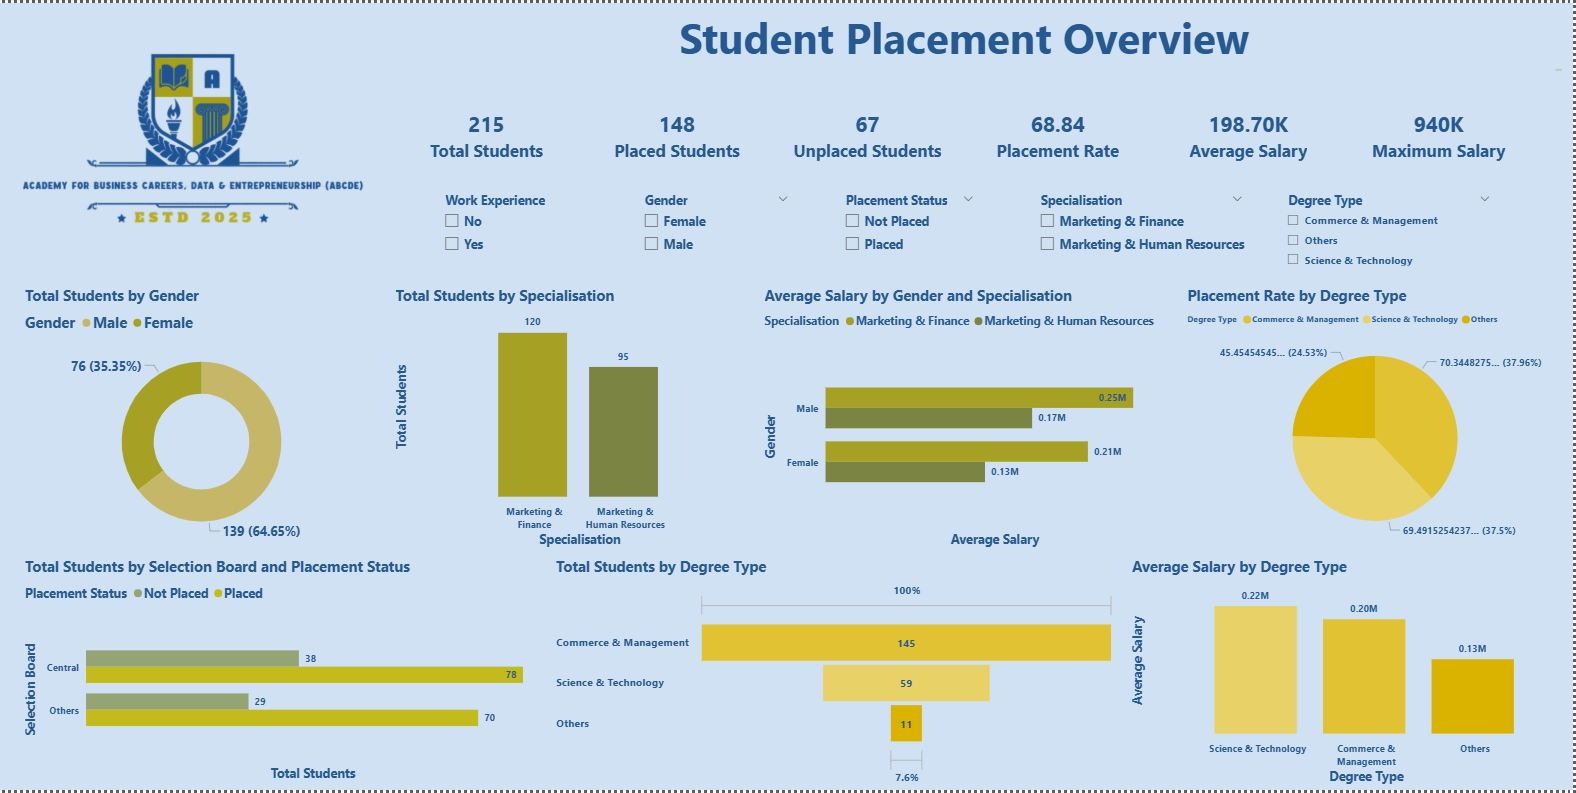

Layout of this report page (visuals, bound fields, positions):
{"tool":"powerbi","page":{"name":"Placement Overview","canvas":[2000,1000],"ordinal":0},"visuals":[{"type":"textbox","title":"Student Placement Overview","box":[462,8,1528,84],"z":0},{"type":"cardVisual","fields":{"Data":["Count(student_details.s_id)","student_details.placed_students","student_details.unplaced_students","student_details.placement_rate","Avg(student_details.salary)","Max(student_details.salary)1"]},"box":[484,108,1480,118],"z":1000},{"type":"slicer","fields":{"Values":["student_details.workex"]},"box":[552,234,202,108],"z":2000},{"type":"slicer","fields":{"Values":["student_details.status"]},"box":[1062,234,188,108],"z":3000},{"type":"slicer","fields":{"Values":["student_details.gender"]},"box":[806,234,208,108],"z":4000},{"type":"slicer","fields":{"Values":["student_details.specialisation"]},"box":[1310,234,282,108],"z":5000},{"type":"donutChart","fields":{"Y":["Count(student_details.s_id)"],"Category":["student_details.gender"]},"box":[26,358,458,338],"z":6000},{"type":"clusteredColumnChart","fields":{"Category":["student_details.degree_t"],"Y":["Avg(student_details.salary)"]},"box":[1434,704,556,294],"z":7000},{"type":"clusteredColumnChart","fields":{"Category":["student_details.specialisation"],"Y":["Count(student_details.s_id)"]},"box":[498,358,452,338],"z":8000},{"type":"image","box":[26,8,436,334],"z":9000},{"type":"funnel","fields":{"Y":["CountNonNull(student_details.s_id)"],"Category":["student_details.degree_t"]},"box":[702,704,720,296],"z":10000},{"type":"clusteredBarChart","fields":{"Category":["student_details.ssc_b"],"Series":["student_details.status"],"Y":["CountNonNull(student_details.s_id)"]},"box":[26,704,664,290],"z":11000},{"type":"pieChart","fields":{"Y":["student_details.placement_rate"],"Category":["student_details.degree_t"]},"box":[1504,358,486,338],"z":12000},{"type":"slicer","fields":{"Values":["student_details.degree_t"]},"box":[1624,234,282,108],"z":13000},{"type":"clusteredBarChart","fields":{"Y":["Avg(student_details.salary)"],"Category":["student_details.gender"],"Series":["student_details.specialisation"]},"box":[966,358,518,338],"z":14000}]}

Visuals, with their boxes in screenshot pixels (x1, y1, x2, y2), scaled from the page's 2000x1000 canvas onto the 1576x793 screenshot:
"Student Placement Overview" textbox: [left=364, top=6, right=1568, bottom=73]
cardVisual - Count(student_details.s_id) x student_details.placed_students: [left=381, top=86, right=1548, bottom=179]
slicer - student_details.workex: [left=435, top=186, right=594, bottom=271]
slicer - student_details.status: [left=837, top=186, right=985, bottom=271]
slicer - student_details.gender: [left=635, top=186, right=799, bottom=271]
slicer - student_details.specialisation: [left=1032, top=186, right=1254, bottom=271]
donutChart - Count(student_details.s_id) x student_details.gender: [left=20, top=284, right=381, bottom=552]
clusteredColumnChart - student_details.degree_t x Avg(student_details.salary): [left=1130, top=558, right=1568, bottom=791]
clusteredColumnChart - student_details.specialisation x Count(student_details.s_id): [left=392, top=284, right=749, bottom=552]
image: [left=20, top=6, right=364, bottom=271]
funnel - CountNonNull(student_details.s_id) x student_details.degree_t: [left=553, top=558, right=1121, bottom=792]
clusteredBarChart - student_details.ssc_b x student_details.status: [left=20, top=558, right=544, bottom=788]
pieChart - student_details.placement_rate x student_details.degree_t: [left=1185, top=284, right=1568, bottom=552]
slicer - student_details.degree_t: [left=1280, top=186, right=1502, bottom=271]
clusteredBarChart - Avg(student_details.salary) x student_details.gender: [left=761, top=284, right=1169, bottom=552]
